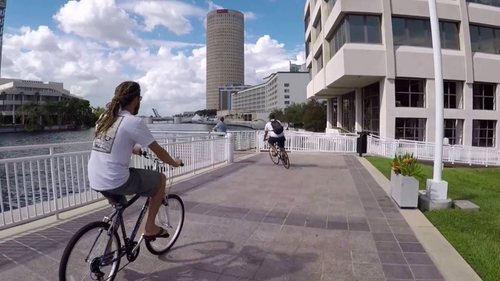bikerider: (46, 75, 197, 278), (251, 108, 298, 178)
